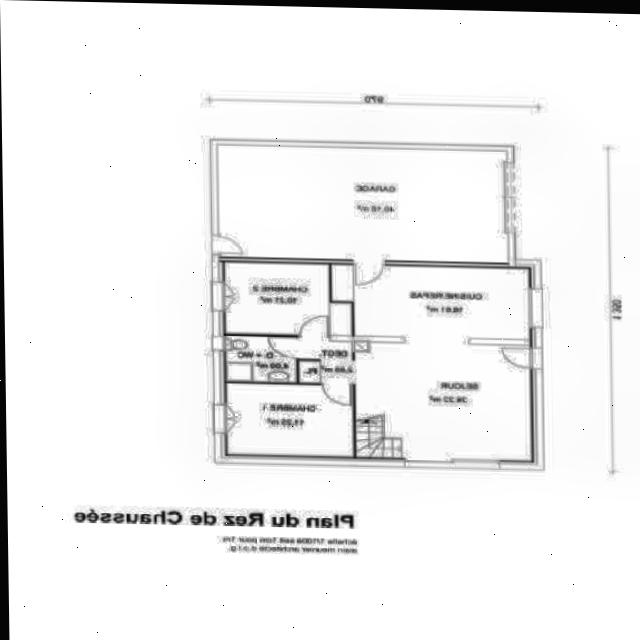room: (216, 145, 511, 264), (353, 342, 533, 460), (330, 264, 531, 340), (222, 262, 353, 336), (225, 383, 355, 457), (226, 335, 298, 382), (298, 337, 354, 384)
